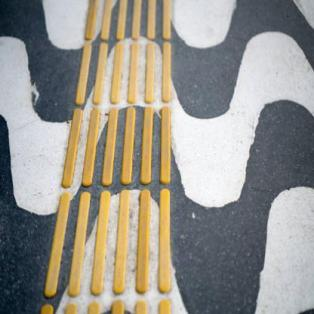Podoctatil: (40, 0, 171, 313)
